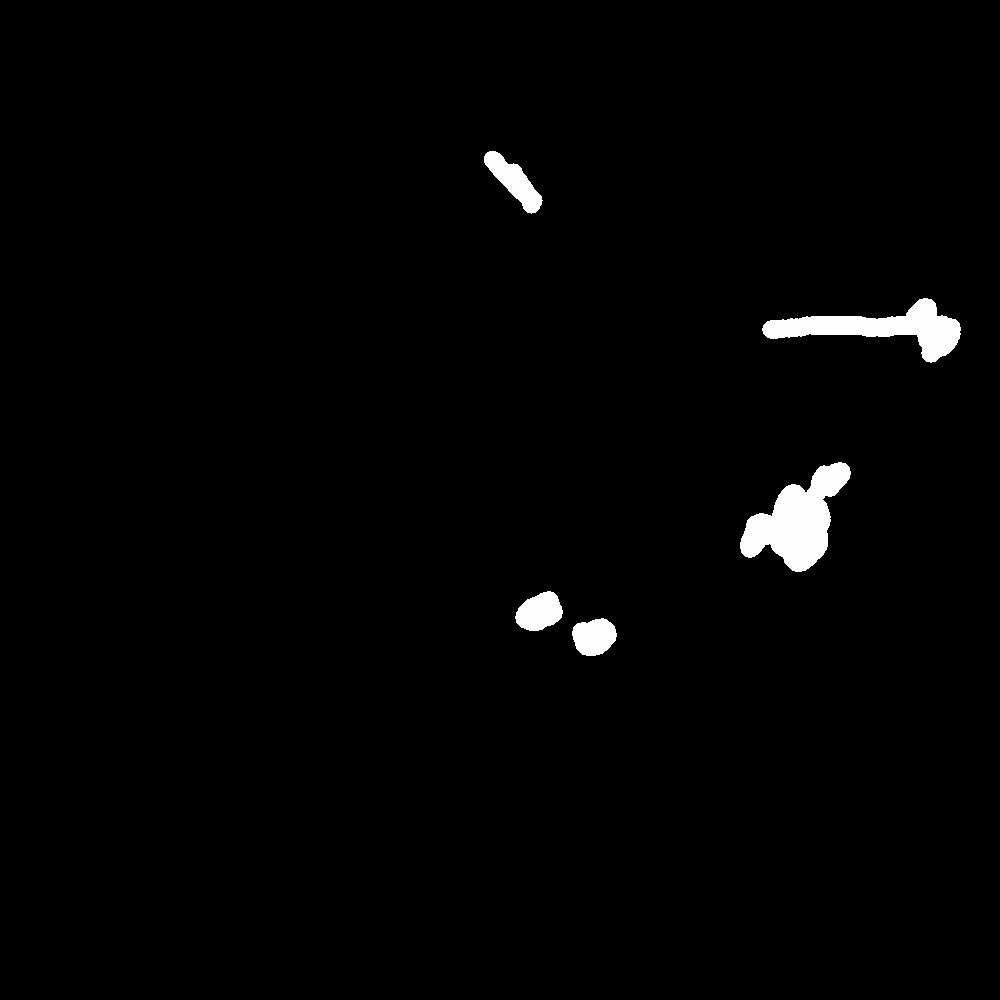illegal: (746, 466, 847, 565), (902, 291, 973, 367), (510, 602, 607, 654)
